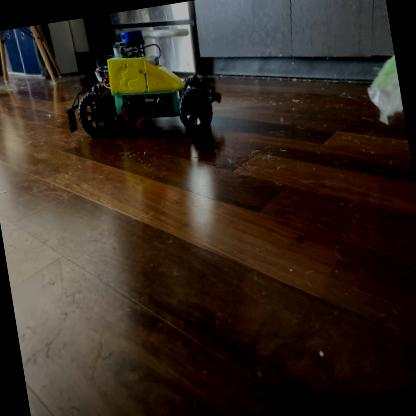mushr_car: (52, 14, 230, 161)
